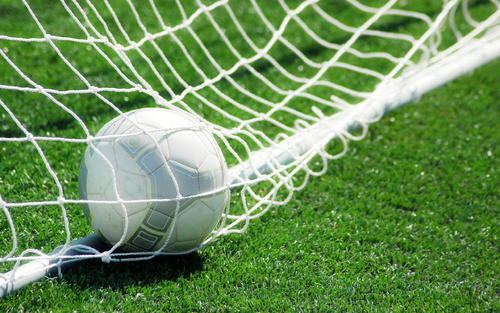football: (80, 107, 228, 259)
